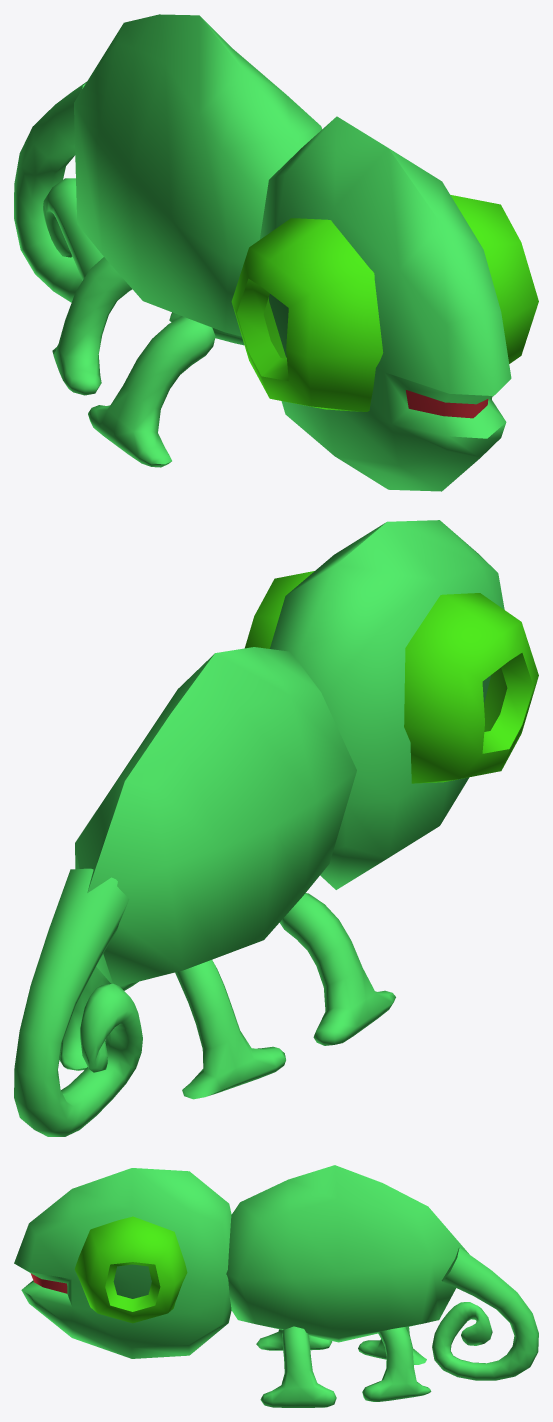
Rendered from chameleon.fbx.
The picture shows the model from 3 angles, top to bottom: view 1: azimuth 30°, elevation 25°; view 2: azimuth 150°, elevation 25°; view 3: azimuth 270°, elevation 25°; orthographic projection. The views are drawn at different scales.
Parts seen in each view (by area): view 1: chameleon; view 2: chameleon; view 3: chameleon.
Part boxes in pixels (box(x1,y1,x2,y2)): chameleon: box(14, 14, 538, 491); chameleon: box(14, 520, 538, 1136); chameleon: box(14, 1165, 538, 1407).
Size of the model in its own units: 19.69 by 28.55 by 63.72.
